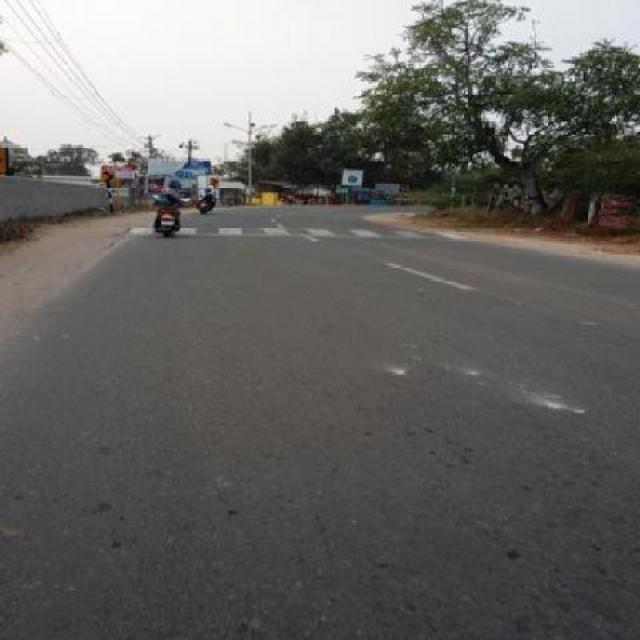Speed Bump: (122, 222, 464, 237)
